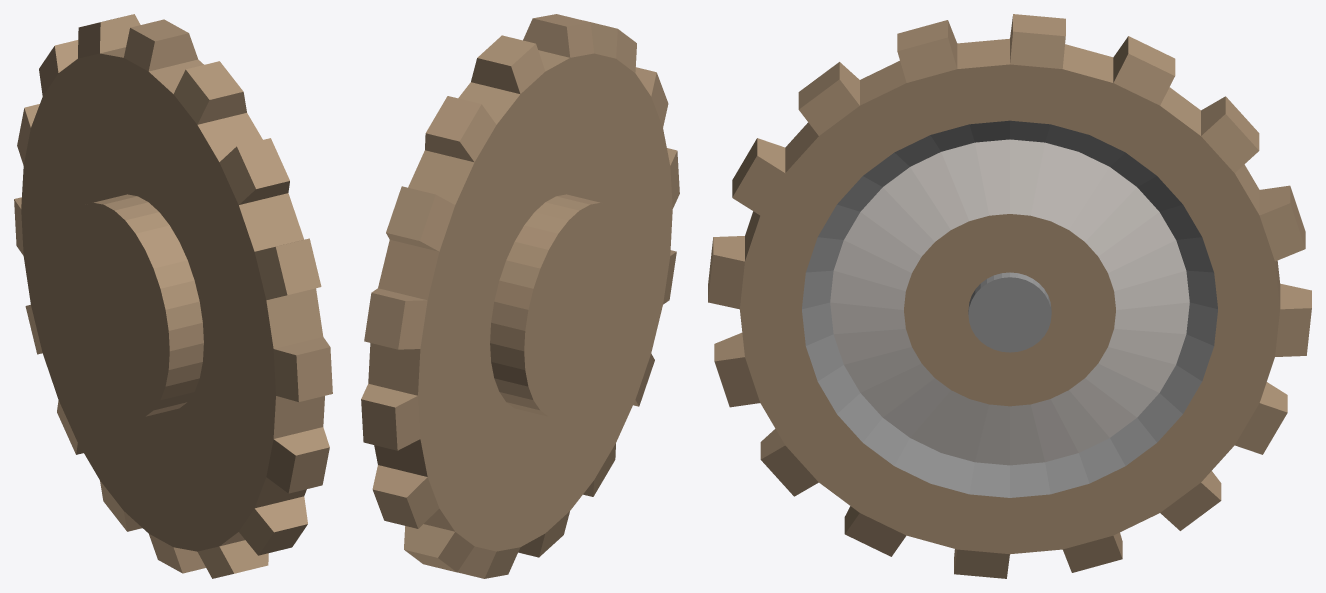
The model's file is gear-large.fbx.
3 renders of one model, left to right at view 1: azimuth 30°, elevation 25°; view 2: azimuth 150°, elevation 25°; view 3: azimuth 270°, elevation 25°, orthographic. The views are drawn at different scales.
Visible parts, largest first — view 1: pCylinder2; view 2: pCylinder2; view 3: pCylinder2.
Boxes of the visible parts, <box> form: pCylinder2: <box>14,14,332,578</box>; pCylinder2: <box>361,14,679,578</box>; pCylinder2: <box>708,14,1311,578</box>.
Size of the model in its own units: 0.8579 by 4.47 by 4.47.
